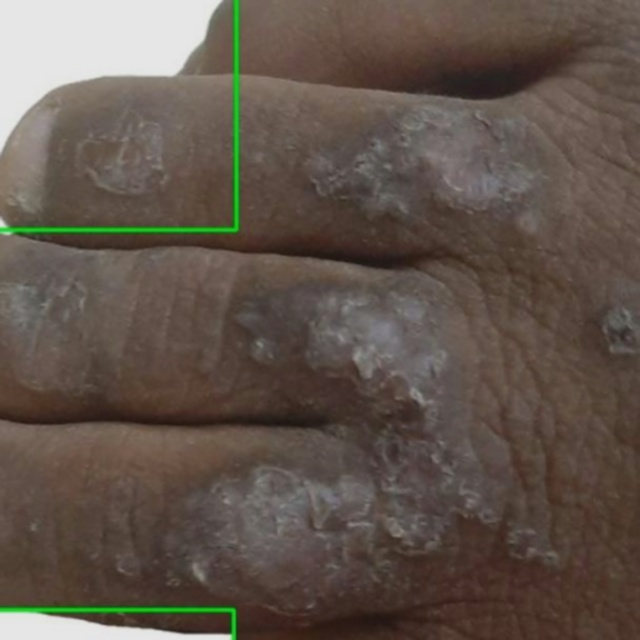Contact Dermatitis: (0, 0, 236, 229), (0, 609, 232, 639)
